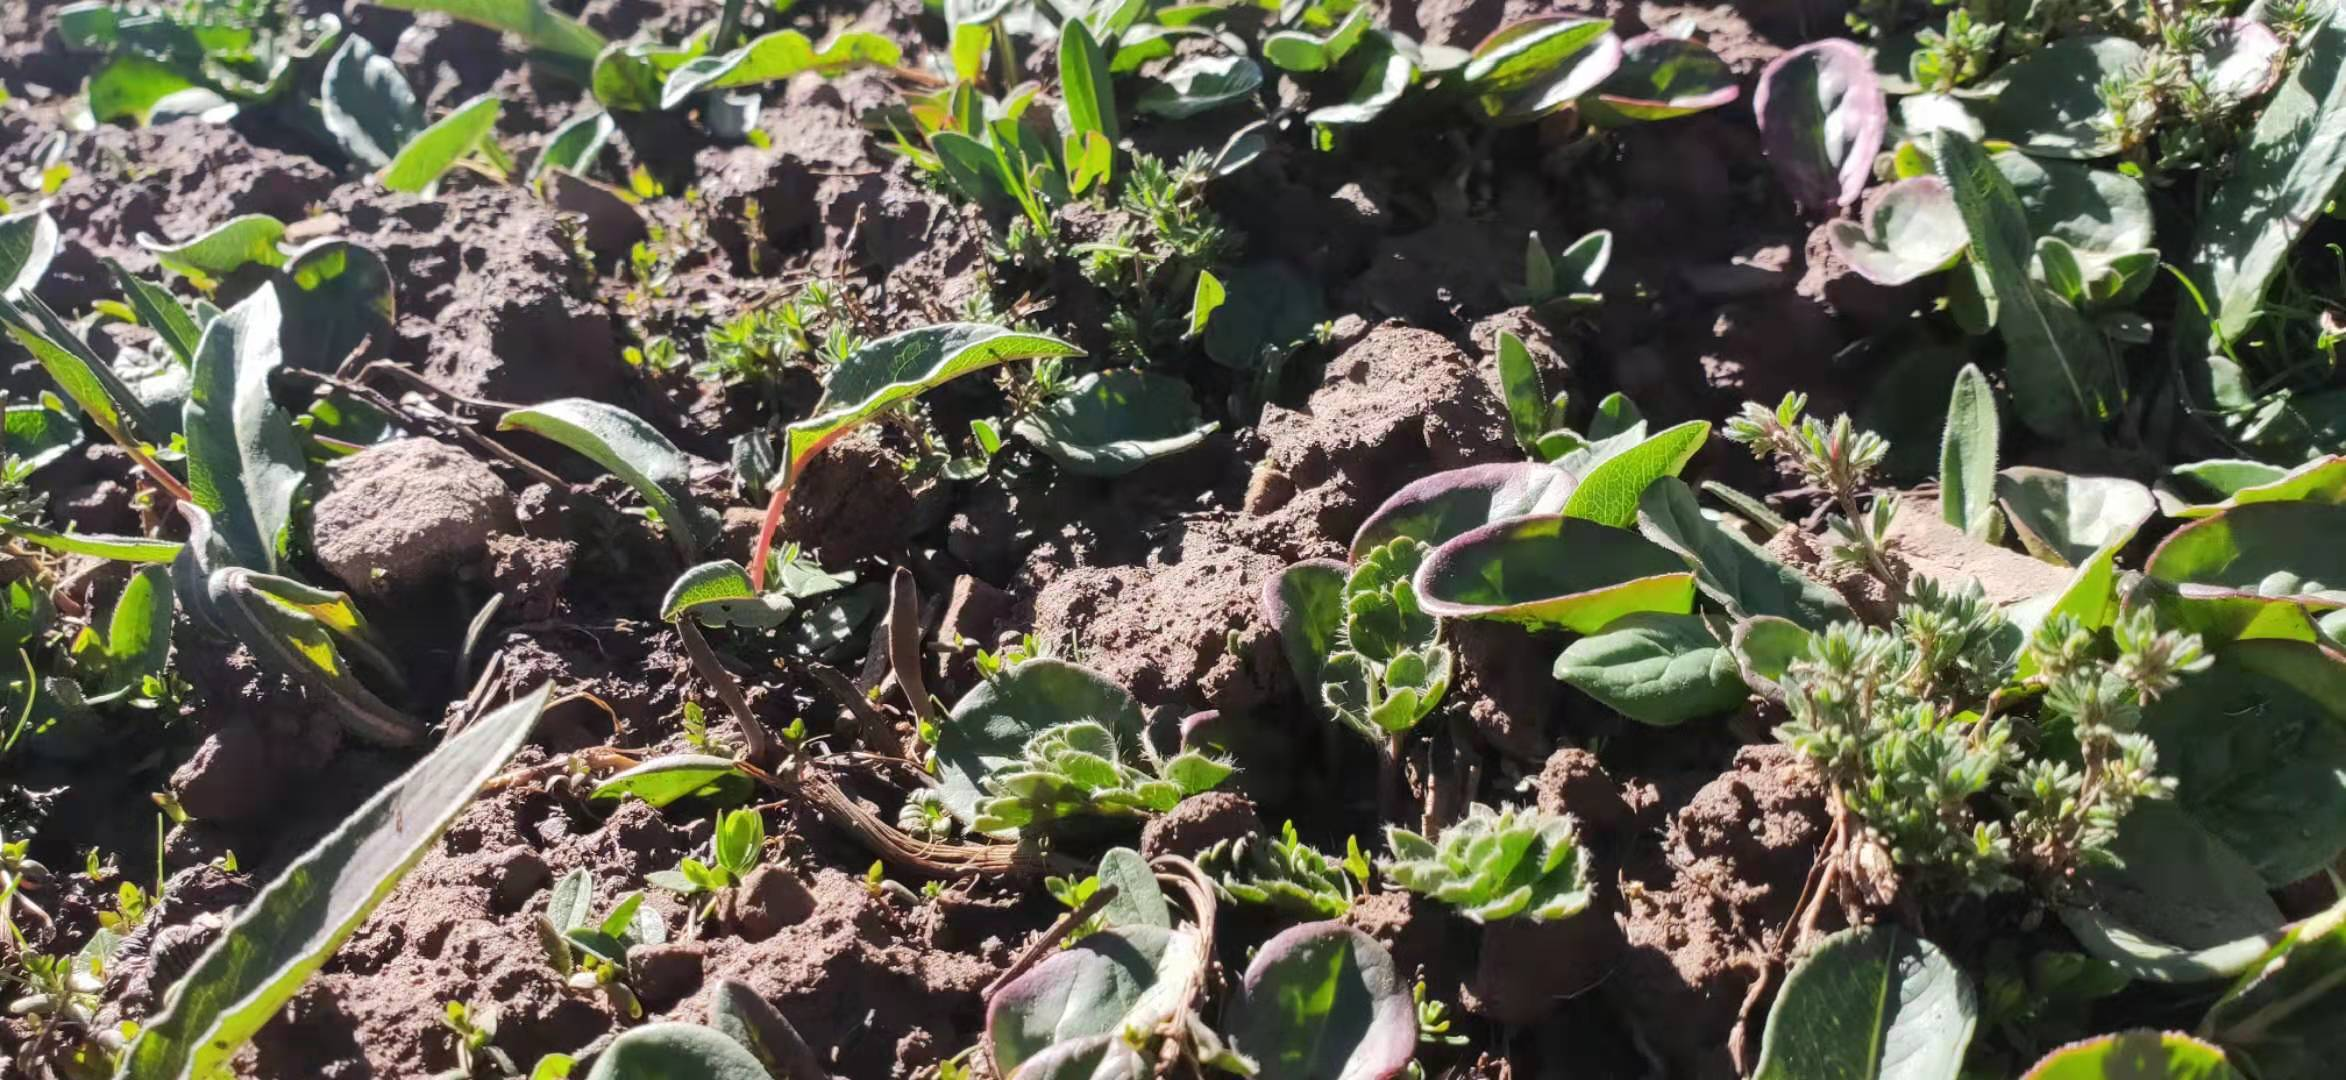cpf: (670, 612, 771, 766), (884, 565, 932, 755)
